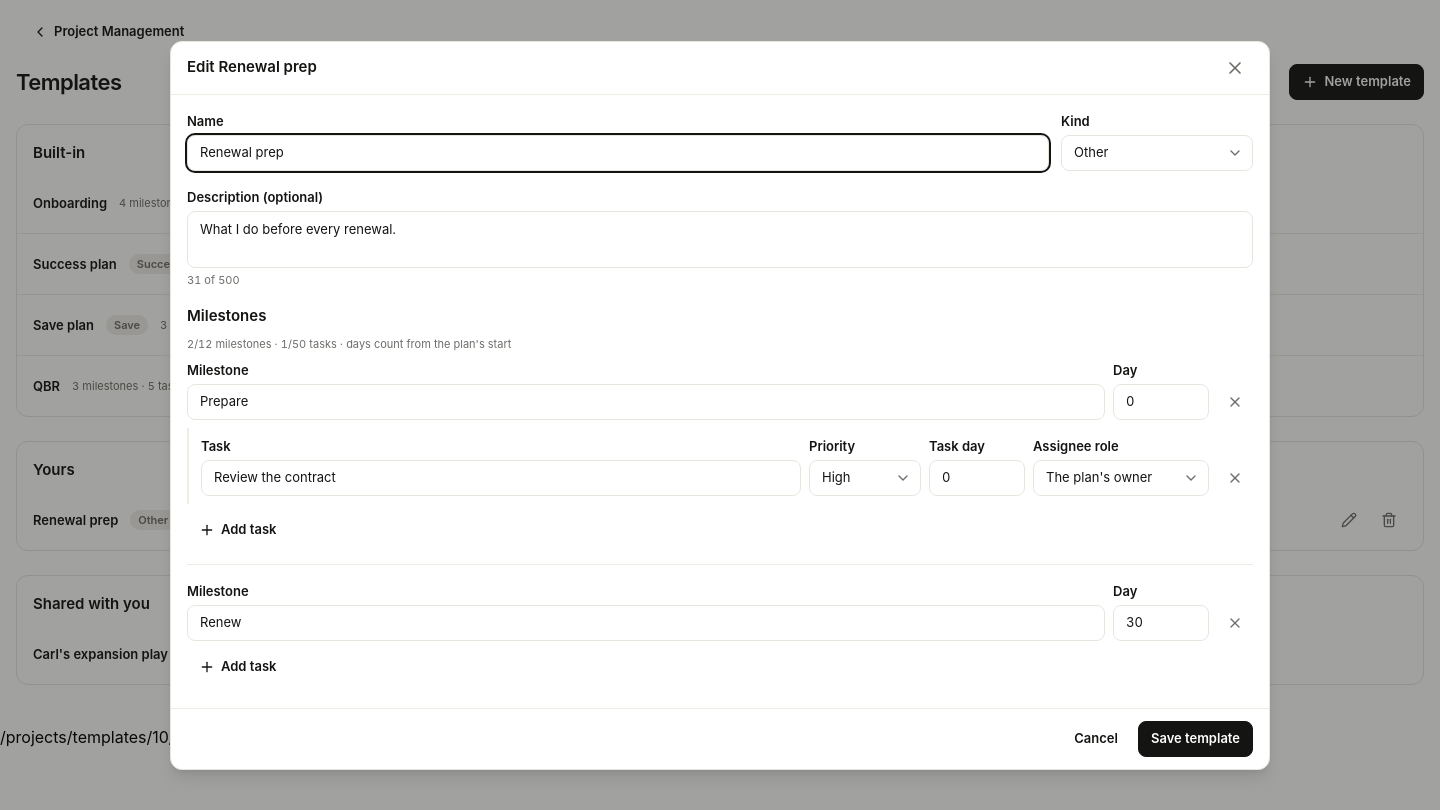
Test: templates (spec §2.4) › edits your own template with the whole body
The image size is (1440, 810).
Replace the text in the field labelled "Name" with "Renewal prep v2" at (618, 152), box [187,134,1049,170]
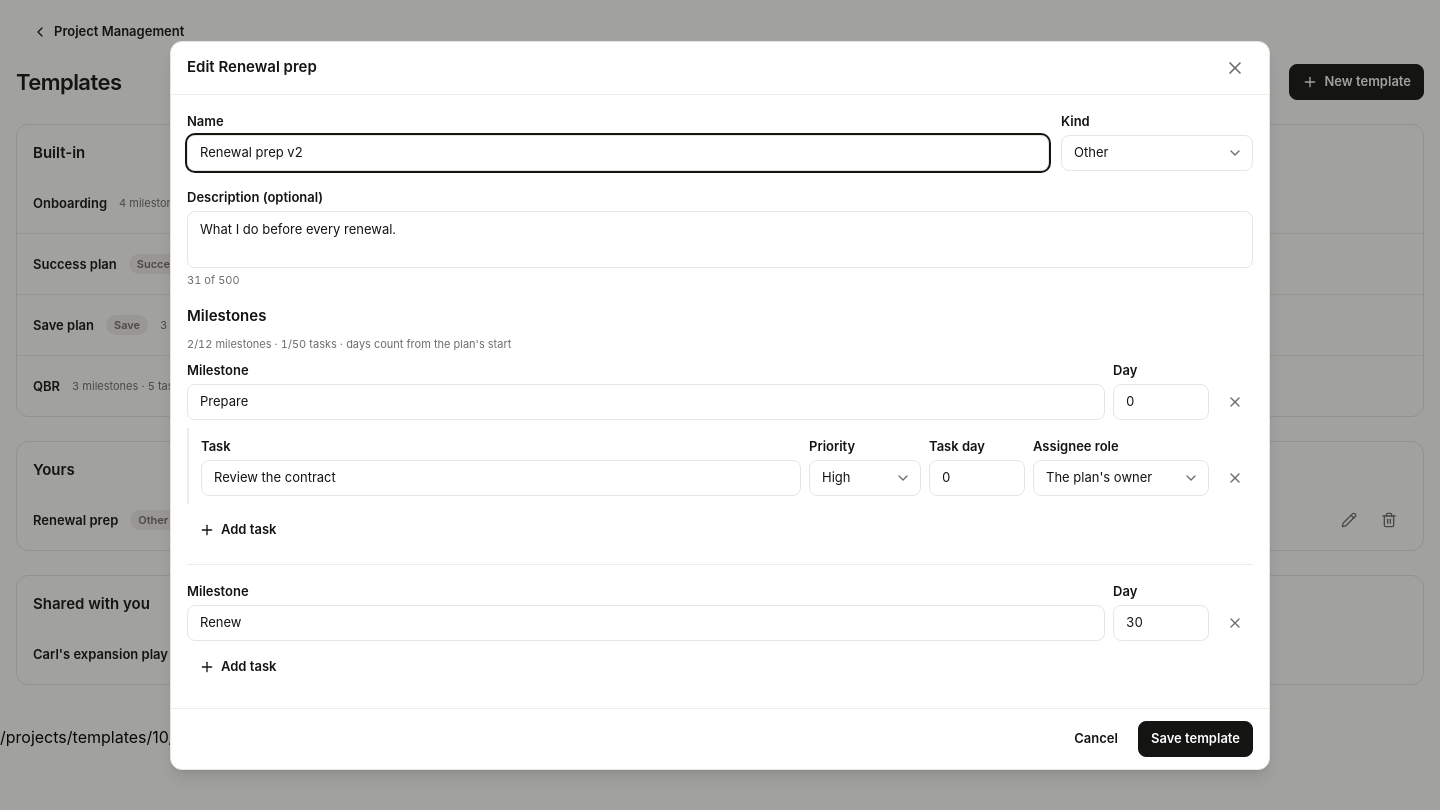
Click the button "Save template" at (1196, 738), box [1138,720,1253,756]
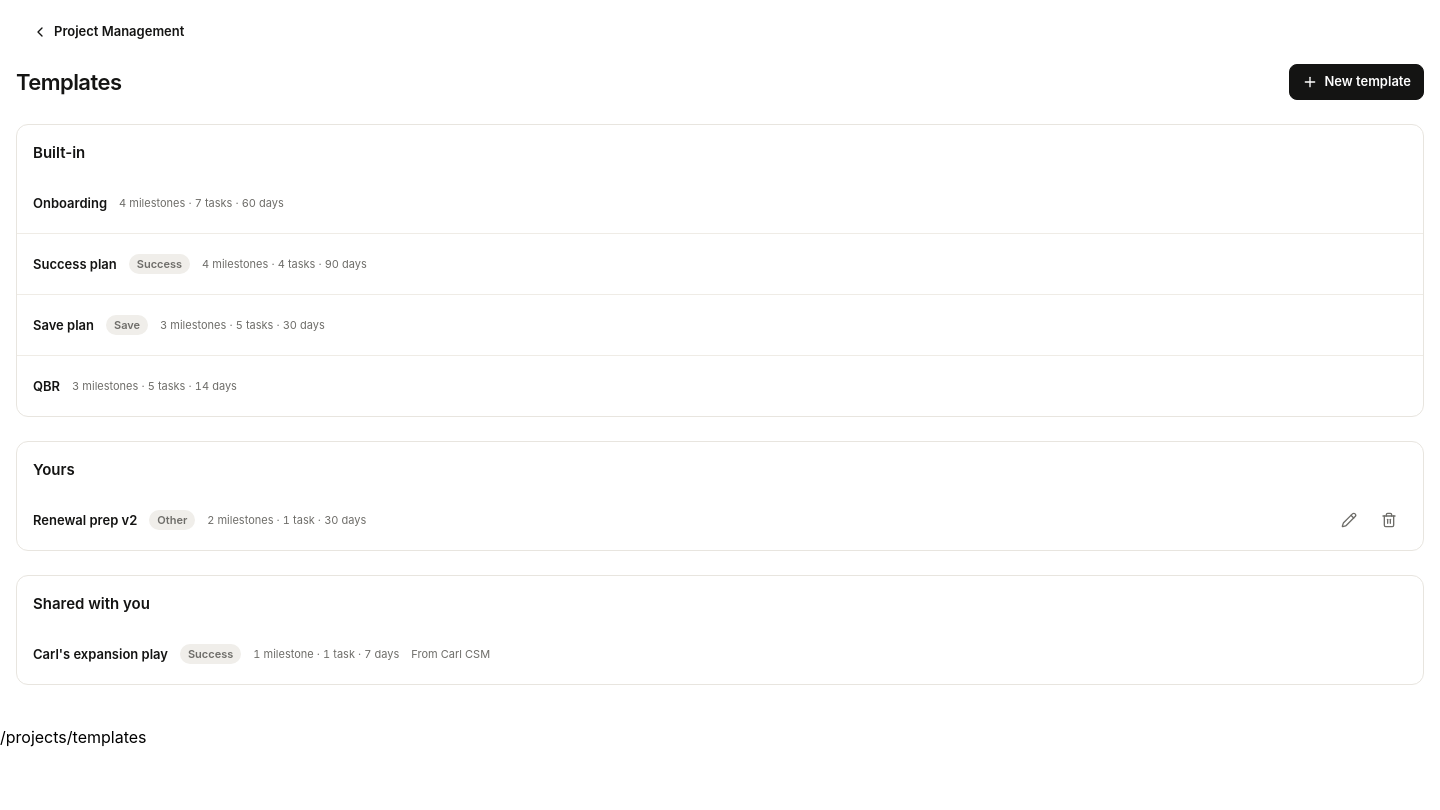
expect the text with test id "where" reads "/projects/templates": met, box [0,727,146,747]
